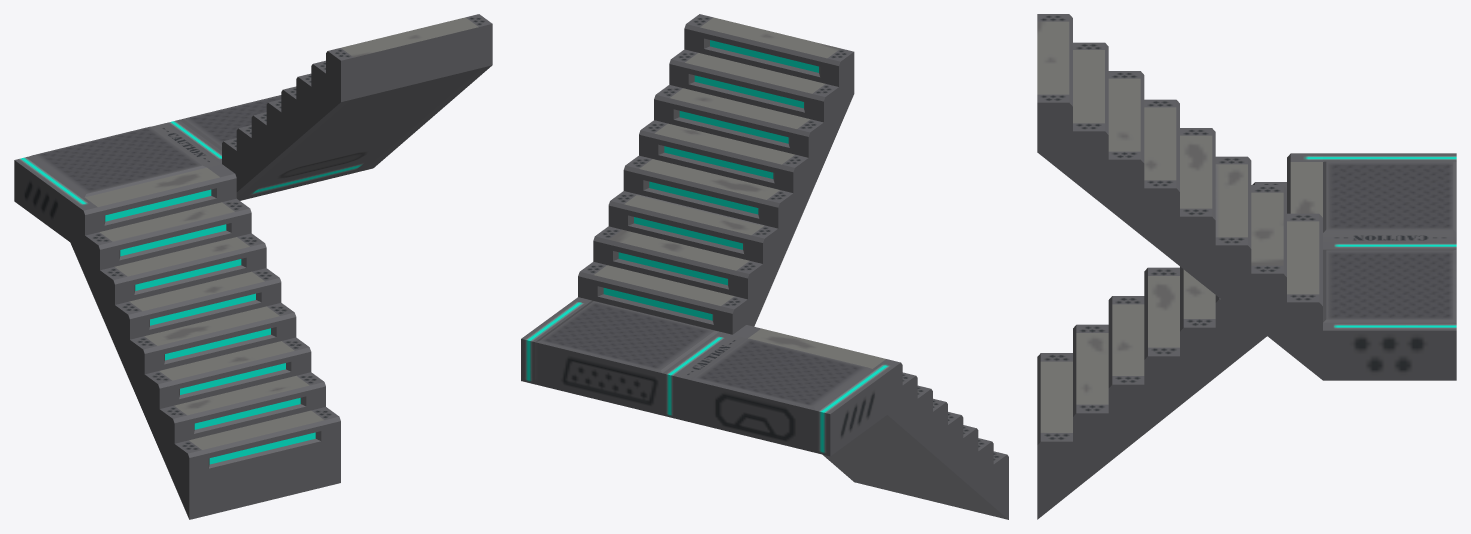
The model's file is SM_Bld_Stairs_04.fbx.
3 views of the same model, side by side, from view 1: azimuth 30°, elevation 25°; view 2: azimuth 150°, elevation 25°; view 3: azimuth 270°, elevation 25° (orthographic). The views are drawn at different scales.
Parts seen in each view (by area): view 1: SM_Bld_Stairs_04; view 2: SM_Bld_Stairs_04; view 3: SM_Bld_Stairs_04.
Part boxes in pixels (left/top/right/bottom): SM_Bld_Stairs_04: left=14, top=14, right=492, bottom=519; SM_Bld_Stairs_04: left=521, top=14, right=1008, bottom=519; SM_Bld_Stairs_04: left=1037, top=14, right=1456, bottom=519.
Bounding box in the file's own units: 250 × 333 × 250.
